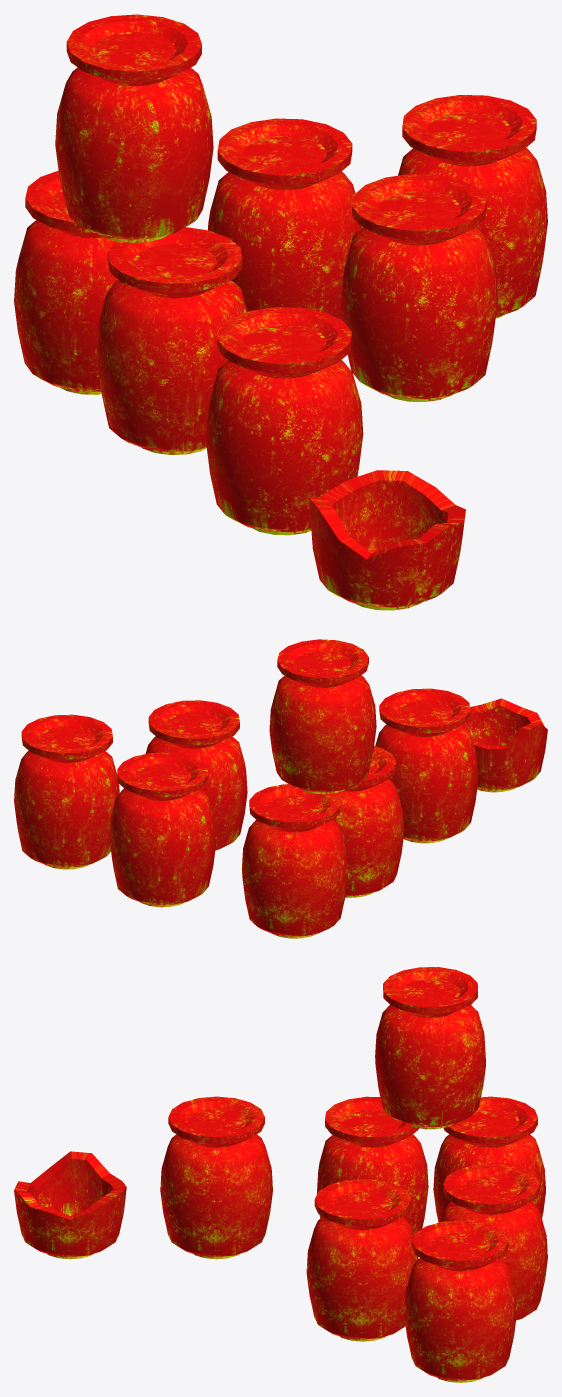
Rendered from Vases.fbx.
3 views of the same model, one above another, from view 1: azimuth 30°, elevation 25°; view 2: azimuth 150°, elevation 25°; view 3: azimuth 270°, elevation 25° (orthographic). The views are drawn at different scales.
Parts seen in each view (by area): view 1: Vase_Group3, Vase_Group, Vase, VaseBrokenHalf; view 2: Vase_Group, Vase_Group3, Vase, VaseBrokenHalf; view 3: Vase_Group, Vase_Group3, Vase, VaseBrokenHalf.
Part boxes in pixels (box(x1,y1,x2,y2)): Vase_Group3: box(14, 14, 247, 454); Vase_Group: box(208, 95, 547, 401); Vase: box(206, 307, 363, 535); VaseBrokenHalf: box(309, 470, 465, 610); Vase_Group: box(14, 700, 247, 907); Vase_Group3: box(241, 639, 404, 938); Vase: box(375, 688, 478, 843); VaseBrokenHalf: box(463, 698, 547, 792); Vase_Group: box(306, 1163, 547, 1382); Vase_Group3: box(317, 967, 545, 1236); Vase: box(160, 1096, 272, 1259); VaseBrokenHalf: box(14, 1151, 126, 1259).
Bounding box in the file's own units: 831 × 588 × 1095.
